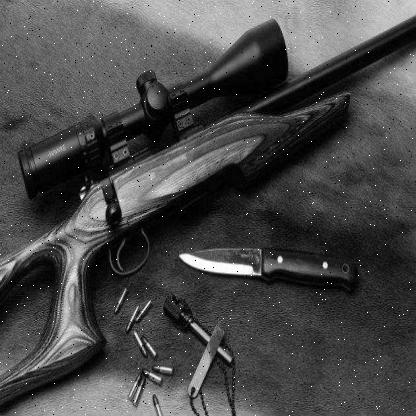rifle: (0, 21, 358, 392)
